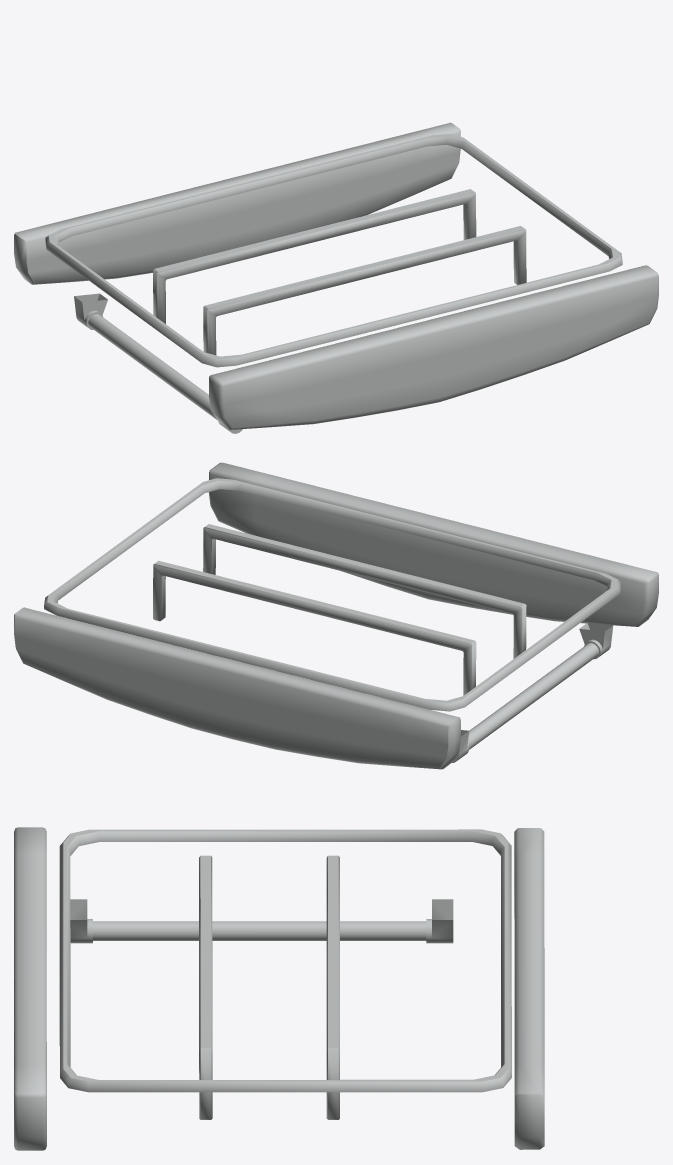
Rendered from MeshFridgeMaindoorA4_2_GeomSubset_1.obj.
The picture shows the model from 3 angles, top to bottom: view 1: azimuth 30°, elevation 25°; view 2: azimuth 150°, elevation 25°; view 3: azimuth 270°, elevation 25°; orthographic projection. The views are drawn at different scales.
Parts seen in each view (by area): view 1: MeshFridgeMaindoorA4_2_GeomSubset_1; view 2: MeshFridgeMaindoorA4_2_GeomSubset_1; view 3: MeshFridgeMaindoorA4_2_GeomSubset_1.
Boxes of the visible parts, x1,y1,x2,y2 form: MeshFridgeMaindoorA4_2_GeomSubset_1: [14, 122, 658, 433]; MeshFridgeMaindoorA4_2_GeomSubset_1: [14, 462, 658, 769]; MeshFridgeMaindoorA4_2_GeomSubset_1: [14, 827, 544, 1150].
Size of the model in its own units: 1.16 by 0.5144 by 1.16.
